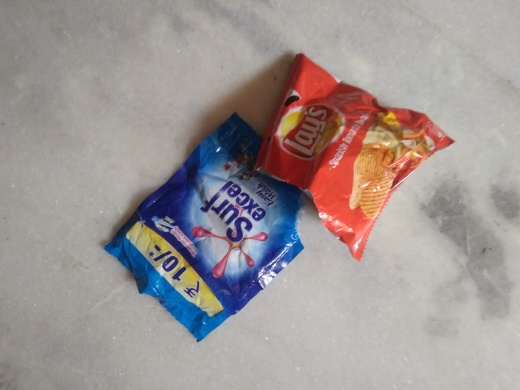lays: (251, 43, 443, 245)
surf: (88, 121, 316, 338)
